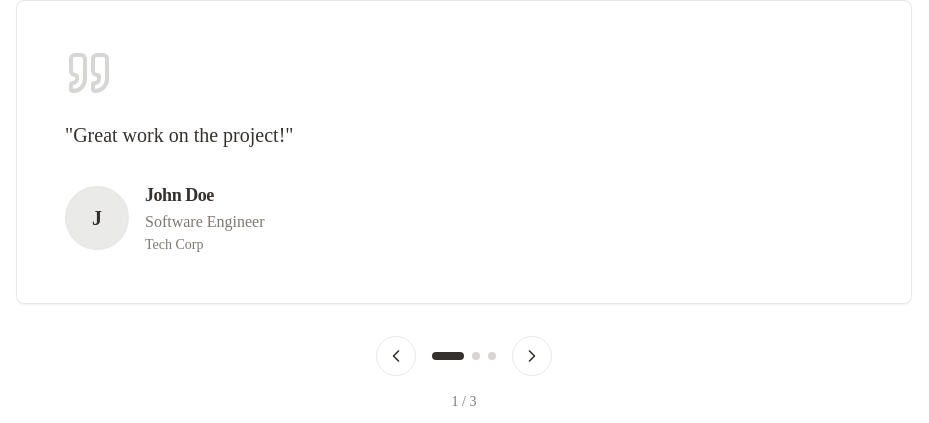
Test: TestimonialsCarousel › should navigate to next testimonial when next button is clicked
Click the button named "Next testimonial": click(532, 356) [512, 336, 552, 376]
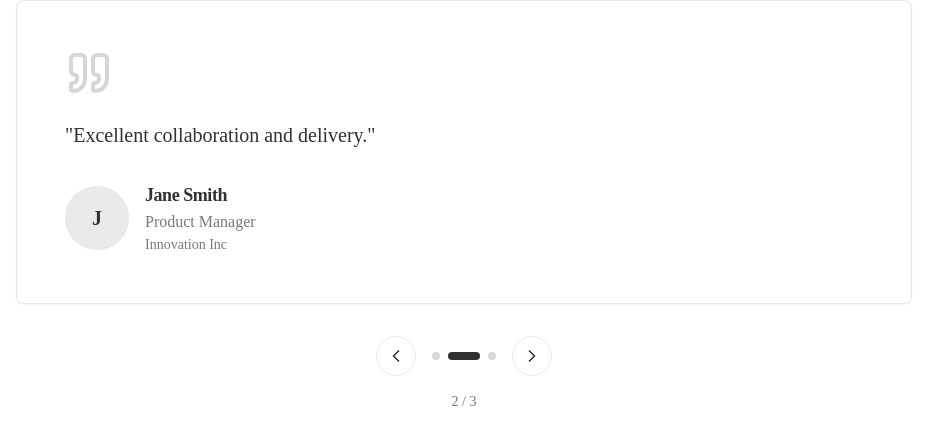
Expected: the heading "Jane Smith" is shown, [145, 181, 227, 209]
